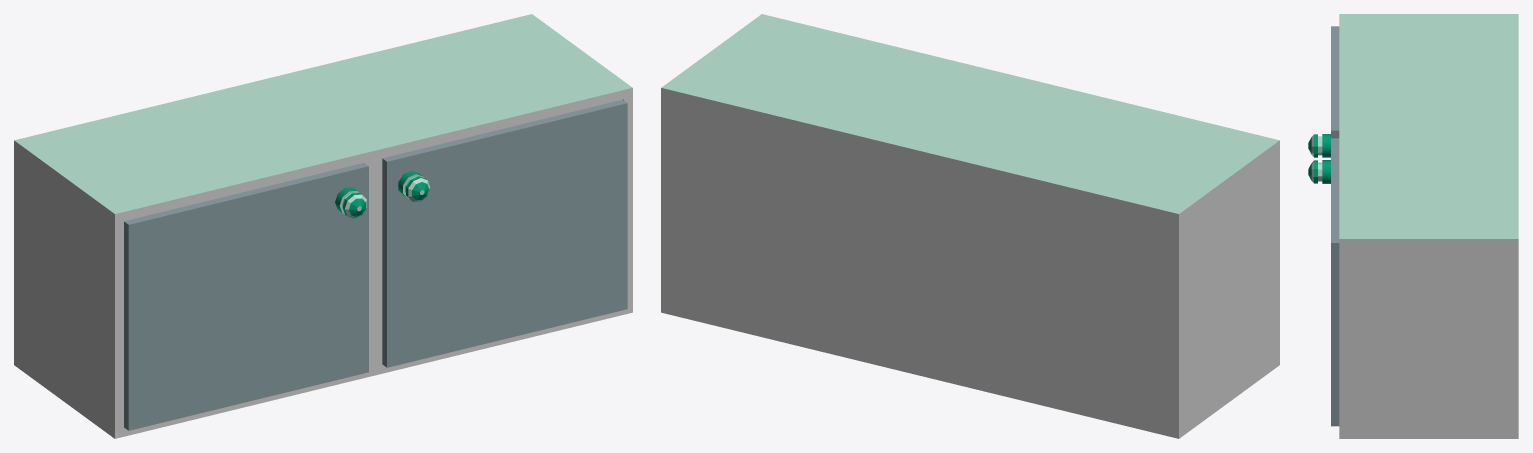
File: Cabinet_Green_Lower2.fbx
3 renders of one model, left to right at view 1: azimuth 30°, elevation 25°; view 2: azimuth 150°, elevation 25°; view 3: azimuth 270°, elevation 25°, orthographic. The views are drawn at different scales.
Visible parts, largest first — view 1: Cabinet_Green_Lower2, Cabinet_Green_Lower2.001, Cabinet_Green_Lower2.002; view 2: Cabinet_Green_Lower2; view 3: Cabinet_Green_Lower2, Cabinet_Green_Lower2.001, Cabinet_Green_Lower2.002.
Boxes of the visible parts, bbox=[...] form: Cabinet_Green_Lower2: bbox=[14, 14, 632, 438]; Cabinet_Green_Lower2.001: bbox=[382, 99, 627, 367]; Cabinet_Green_Lower2.002: bbox=[124, 163, 368, 430]; Cabinet_Green_Lower2: bbox=[661, 14, 1279, 438]; Cabinet_Green_Lower2: bbox=[1339, 14, 1518, 438]; Cabinet_Green_Lower2.001: bbox=[1308, 138, 1339, 426]; Cabinet_Green_Lower2.002: bbox=[1308, 26, 1339, 157].
Bounding box in the file's own units: 200 × 82.98 × 79.17.
